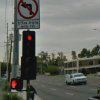Traffic light: (8, 25, 43, 96)
